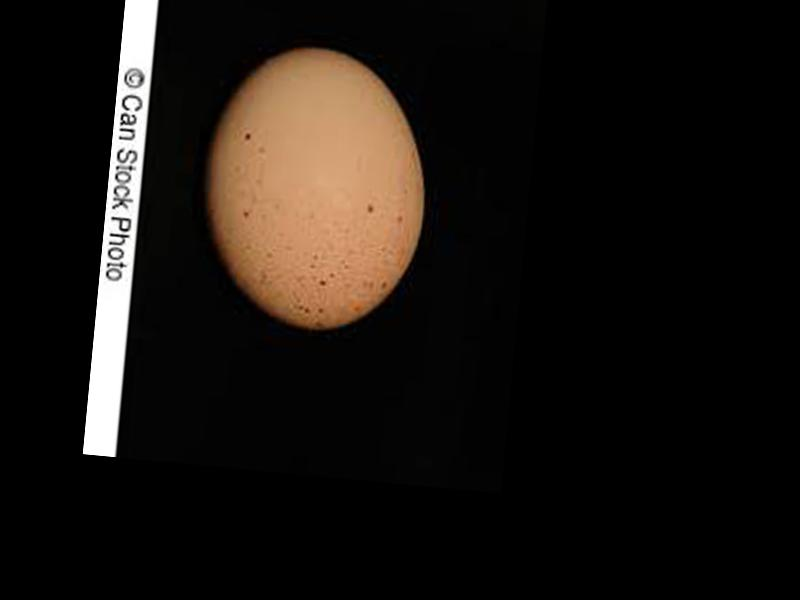Eggs: (190, 38, 436, 336)
